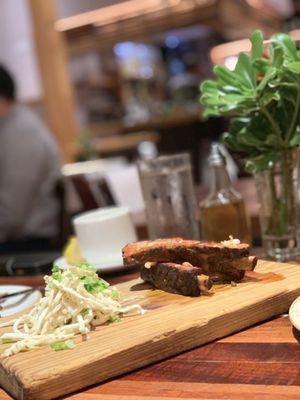pizza: (136, 146, 201, 241)
